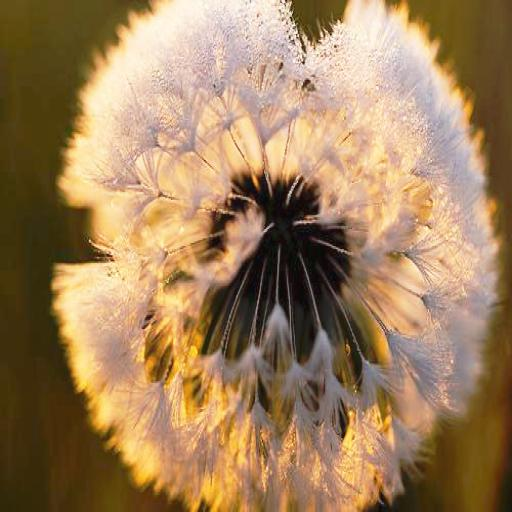dandelion: (24, 0, 510, 510)
